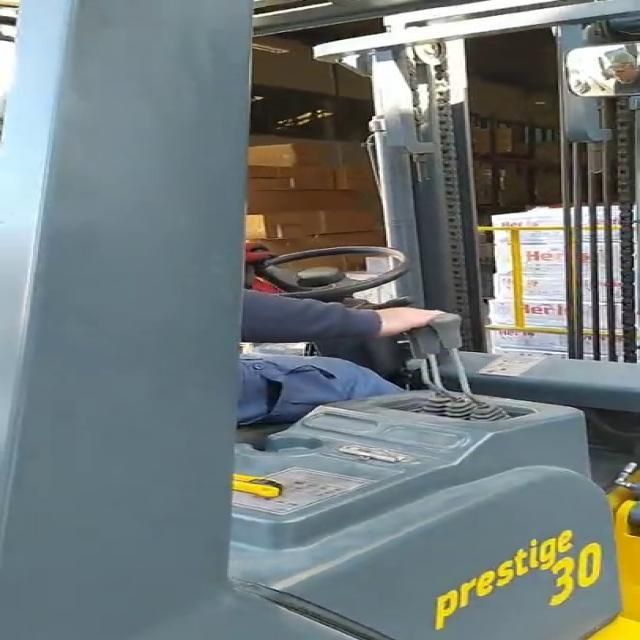box: (477, 196, 633, 369)
forklift: (18, 5, 640, 640)
person: (235, 233, 498, 448)
